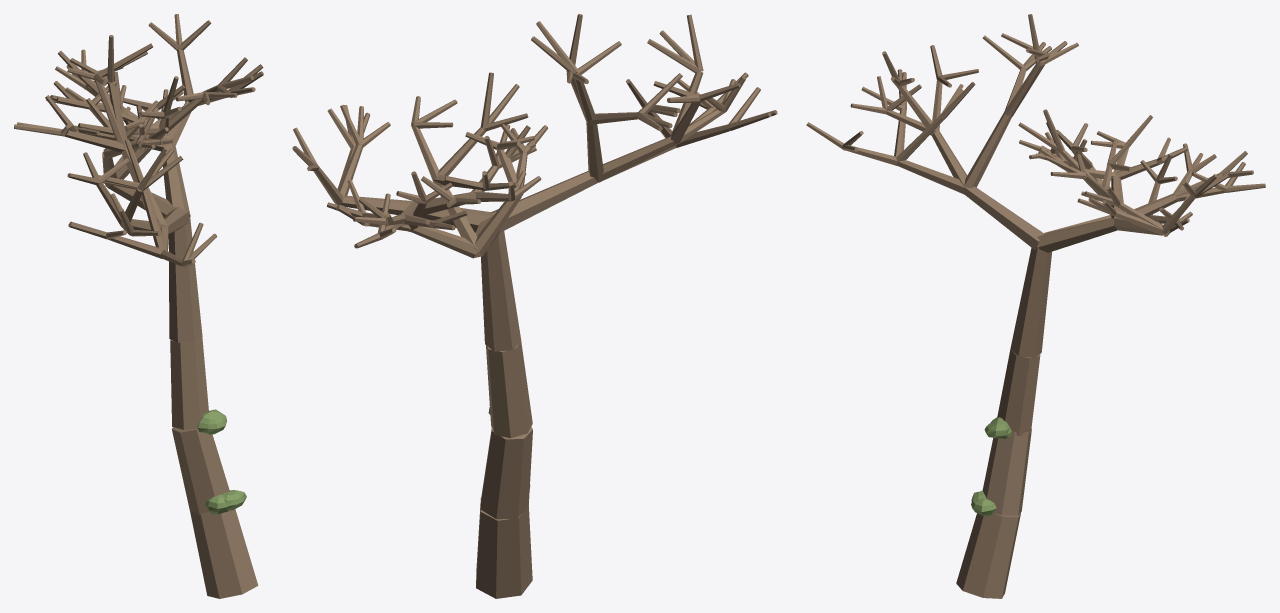
Rendered from tree_dead.glb.
3 views of the same model, side by side, from view 1: azimuth 30°, elevation 25°; view 2: azimuth 150°, elevation 25°; view 3: azimuth 270°, elevation 25° (orthographic). The views are drawn at different scales.
Visible parts, largest first — view 1: tree_dead; view 2: tree_dead; view 3: tree_dead.
Boxes of the visible parts, x1=… form: tree_dead: x1=14, y1=14, x2=263, y2=598; tree_dead: x1=292, y1=14, x2=777, y2=598; tree_dead: x1=806, y1=14, x2=1265, y2=598.
Size of what is drawn, in the model's own units: 3.85 by 6.89 by 5.34.
